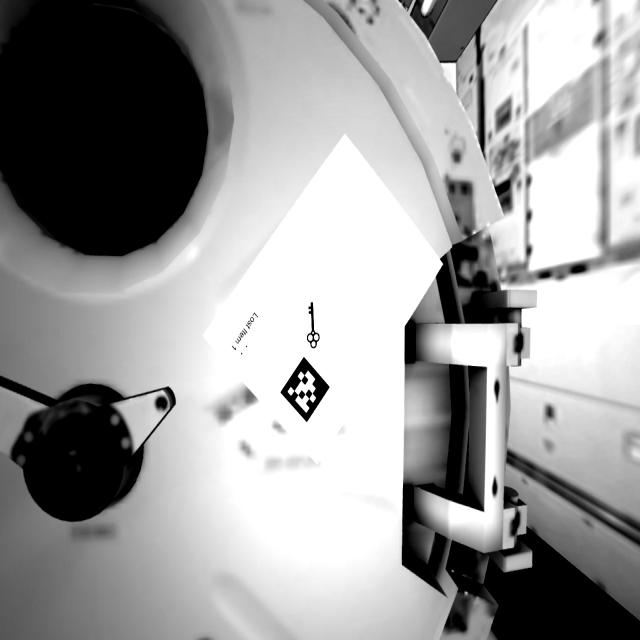key: (300, 296, 327, 353)
